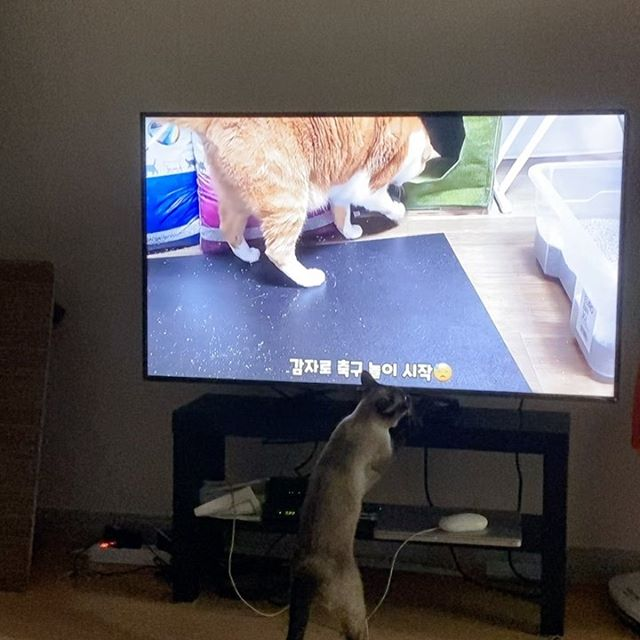cat: (359, 373, 424, 452)
